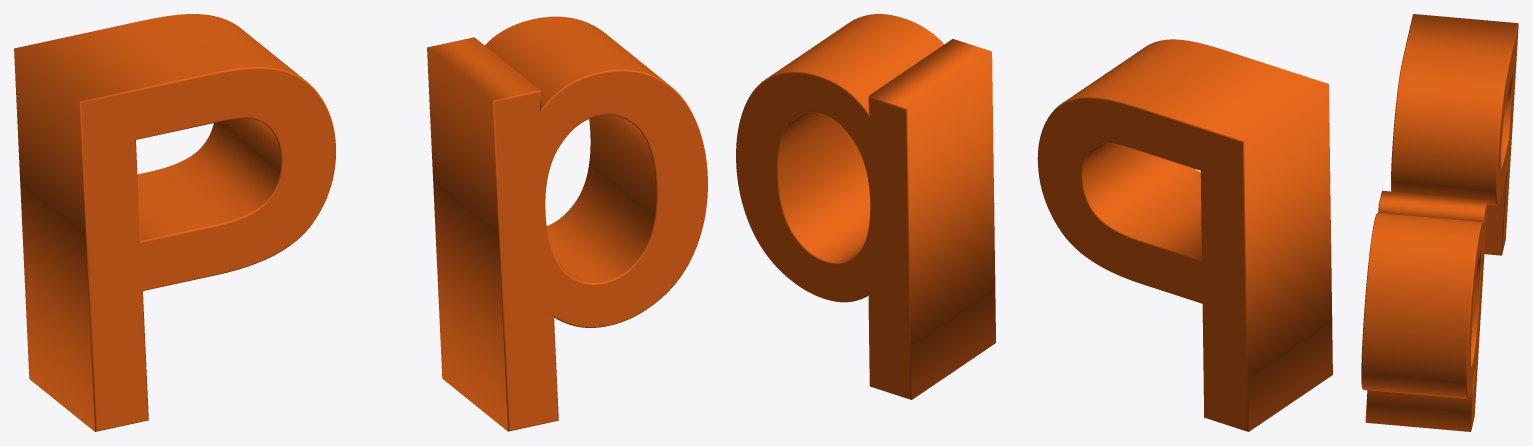
The model's file is ObjectP.fbx.
3 views of the same model, side by side, from view 1: azimuth 30°, elevation 25°; view 2: azimuth 150°, elevation 25°; view 3: azimuth 270°, elevation 25° (orthographic). The views are drawn at different scales.
Parts seen in each view (by area): view 1: Text; view 2: Text; view 3: Text.
Boxes of the visible parts, x1,y1,x2,y2 form: Text: (14, 14, 707, 431); Text: (736, 14, 1332, 431); Text: (1361, 14, 1518, 431).
Bounding box in the file's own units: 266 × 174 × 90.69.
